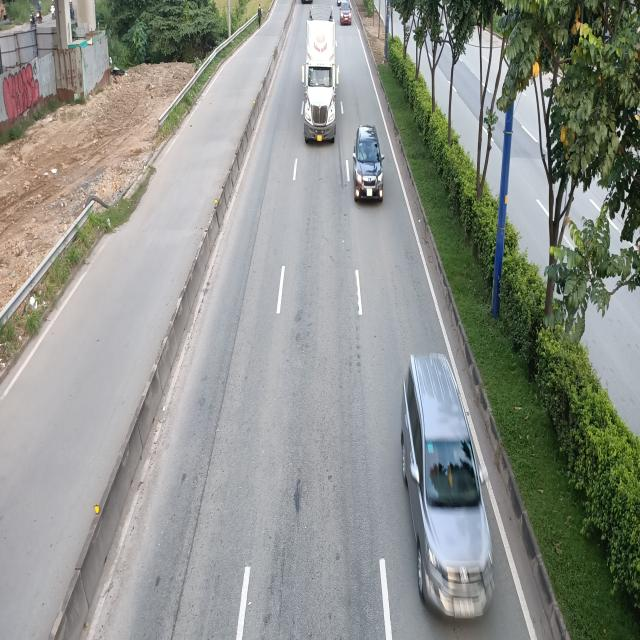car: (399, 351, 491, 620), (352, 124, 383, 202), (339, 0, 352, 24)
container: (302, 17, 339, 145)
